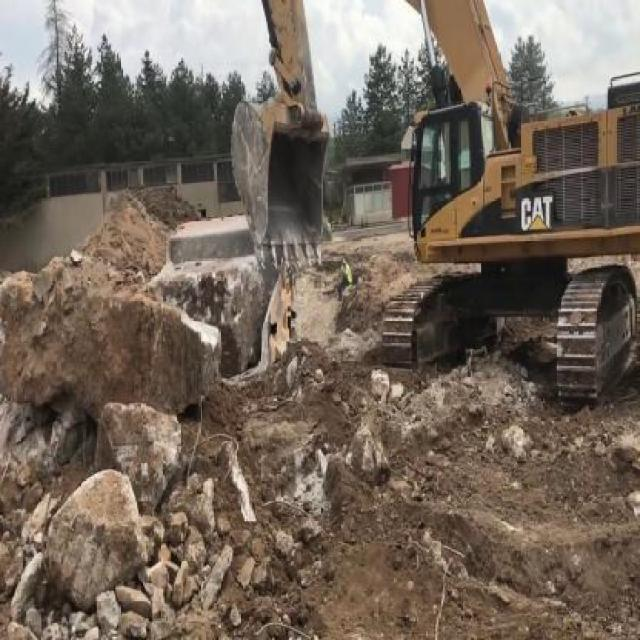excavator: (230, 1, 639, 408)
